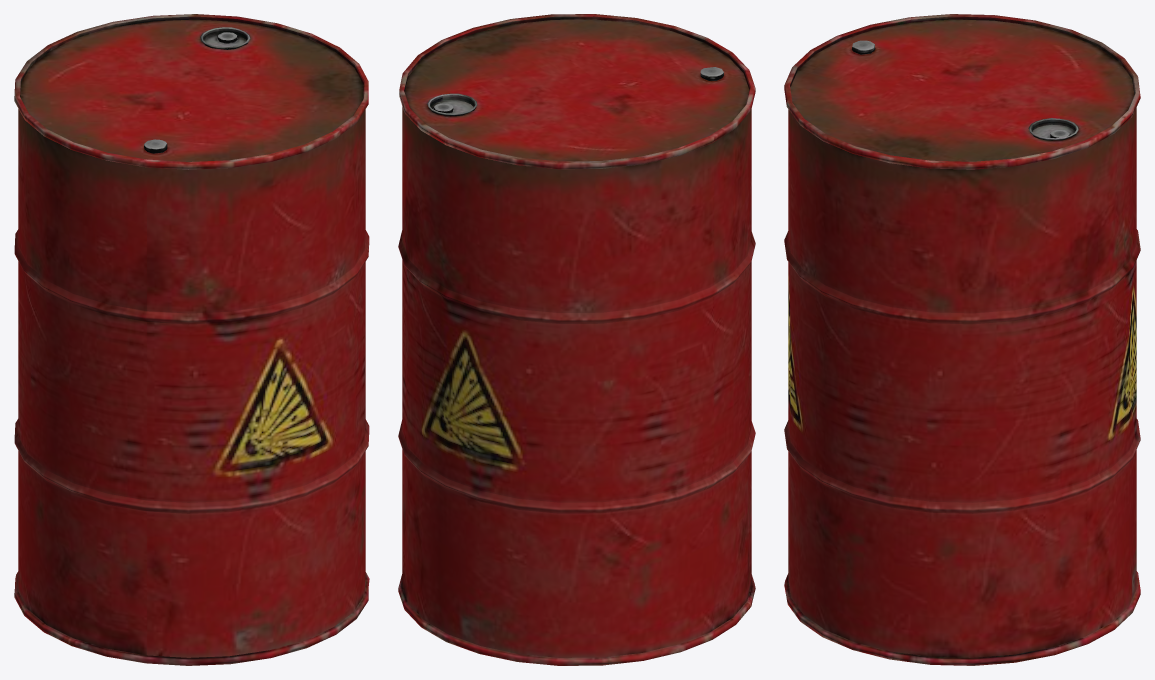
The model's file is Barrel_01.glb.
The picture shows the model from 3 angles, left to right: view 1: azimuth 30°, elevation 25°; view 2: azimuth 150°, elevation 25°; view 3: azimuth 270°, elevation 25°; orthographic projection.
Visible parts, largest first — view 1: Barrel_01; view 2: Barrel_01; view 3: Barrel_01.
Boxes of the visible parts, x1,y1,x2,y2 form: Barrel_01: (14, 14, 369, 665); Barrel_01: (398, 14, 755, 665); Barrel_01: (784, 14, 1140, 665).
Bounding box in the file's own units: 0.563 × 0.88 × 0.563.
1 material, 1 textured.
